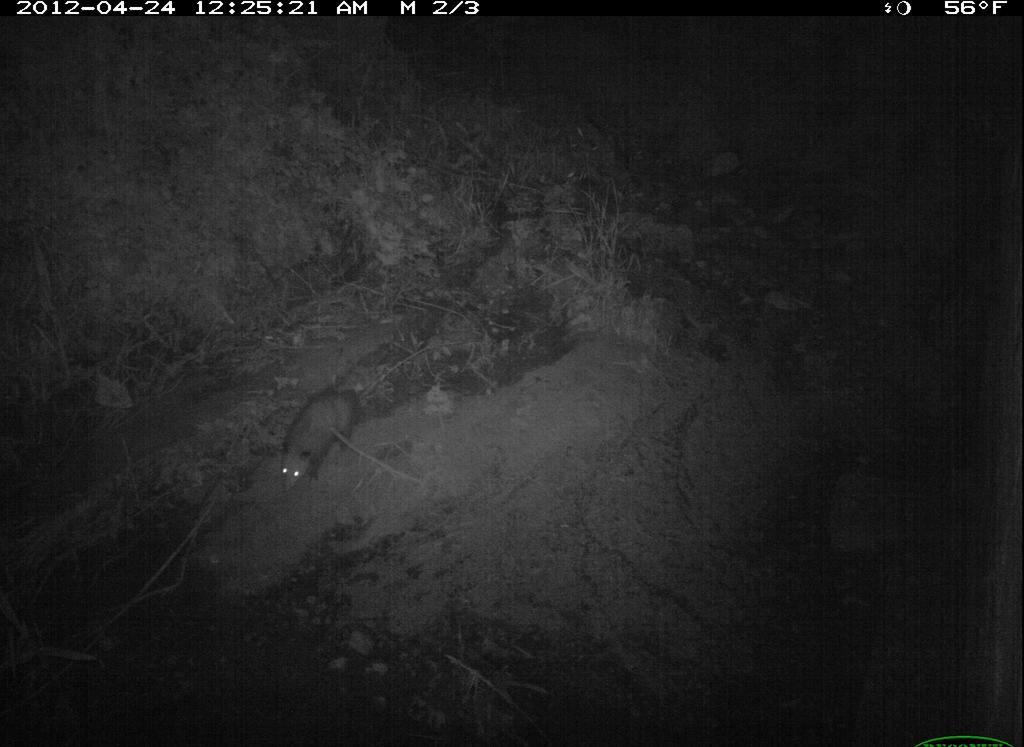opossum: (257, 373, 402, 505)
